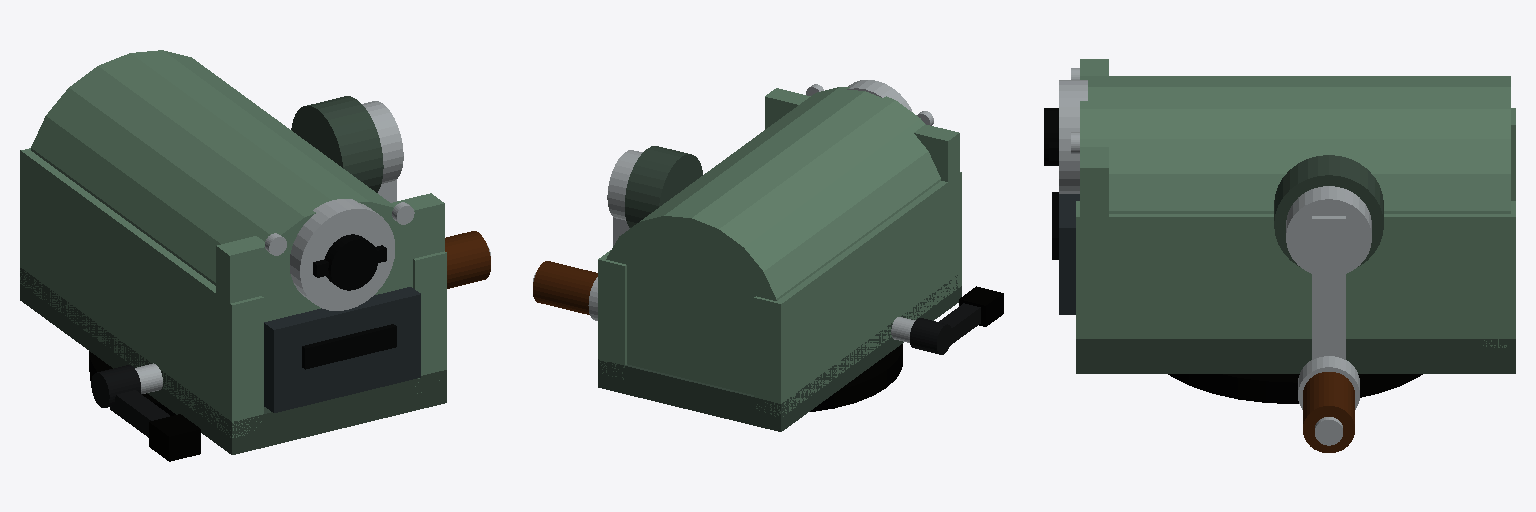
The robot description file, URDF, robot "classroom_crank_pencil_sharpener":
<robot name="classroom_crank_pencil_sharpener">
  <material name="cast_green">
    <color rgba="0.4 0.51 0.43 1" />
    </material>
  <material name="dark_cast_edges">
    <color rgba="0.25 0.31 0.27 1" />
    </material>
  <material name="smoked_drawer">
    <color rgba="0.18 0.21 0.22 0.86" />
    </material>
  <material name="drawer_shadow">
    <color rgba="0.05 0.055 0.055 1" />
    </material>
  <material name="dark_metal">
    <color rgba="0.1 0.105 0.11 1" />
    </material>
  <material name="worn_steel">
    <color rgba="0.64 0.66 0.67 1" />
    </material>
  <material name="black_rubber">
    <color rgba="0.025 0.025 0.023 1" />
    </material>
  <material name="brown_bakelite">
    <color rgba="0.31 0.17 0.075 1" />
    </material>
  <link name="body">
    <visual name="arched_cast_cap">
      <geometry>
        <mesh filename="assets/meshes/cast_housing_cap.obj" />
        </geometry>
      <material name="cast_green">
        <color rgba="0.4 0.51 0.43 1" />
        </material>
      </visual>
    <visual name="base_plate">
      <origin xyz="0 0 0.008" rpy="0 0 0" />
      <geometry>
        <box size="0.108 0.184 0.016" />
        </geometry>
      <material name="dark_cast_edges">
        <color rgba="0.25 0.31 0.27 1" />
        </material>
      </visual>
    <visual name="side_wall_0">
      <origin xyz="-0.046 0 0.04" rpy="0 0 0" />
      <geometry>
        <box size="0.016 0.184 0.064" />
        </geometry>
      <material name="cast_green">
        <color rgba="0.4 0.51 0.43 1" />
        </material>
      </visual>
    <visual name="side_wall_1">
      <origin xyz="0.046 0 0.04" rpy="0 0 0" />
      <geometry>
        <box size="0.016 0.184 0.064" />
        </geometry>
      <material name="cast_green">
        <color rgba="0.4 0.51 0.43 1" />
        </material>
      </visual>
    <visual name="rear_wall">
      <origin xyz="0 0.084 0.041" rpy="0 0 0" />
      <geometry>
        <box size="0.108 0.012 0.058" />
        </geometry>
      <material name="cast_green">
        <color rgba="0.4 0.51 0.43 1" />
        </material>
      </visual>
    <visual name="front_upper_casting">
      <origin xyz="0 -0.084 0.079" rpy="0 0 0" />
      <geometry>
        <box size="0.108 0.012 0.032" />
        </geometry>
      <material name="cast_green">
        <color rgba="0.4 0.51 0.43 1" />
        </material>
      </visual>
    <visual name="front_jamb_0">
      <origin xyz="-0.044 -0.084 0.039" rpy="0 0 0" />
      <geometry>
        <box size="0.012 0.012 0.046" />
        </geometry>
      <material name="cast_green">
        <color rgba="0.4 0.51 0.43 1" />
        </material>
      </visual>
    <visual name="front_jamb_1">
      <origin xyz="0.044 -0.084 0.039" rpy="0 0 0" />
      <geometry>
        <box size="0.012 0.012 0.046" />
        </geometry>
      <material name="cast_green">
        <color rgba="0.4 0.51 0.43 1" />
        </material>
      </visual>
    <visual name="pencil_bezel">
      <origin xyz="0 -0.093 0.084" rpy="1.5708 0 0" />
      <geometry>
        <cylinder radius="0.024" length="0.012" />
        </geometry>
      <material name="worn_steel">
        <color rgba="0.64 0.66 0.67 1" />
        </material>
      </visual>
    <visual name="pencil_throat">
      <origin xyz="0 -0.098 0.084" rpy="1.5708 0 0" />
      <geometry>
        <cylinder radius="0.012" length="0.014" />
        </geometry>
      <material name="drawer_shadow">
        <color rgba="0.05 0.055 0.055 1" />
        </material>
      </visual>
    <visual name="pencil_grip_slit">
      <origin xyz="0 -0.101 0.084" rpy="0 0 0" />
      <geometry>
        <box size="0.035 0.004 0.006" />
        </geometry>
      <material name="drawer_shadow">
        <color rgba="0.05 0.055 0.055 1" />
        </material>
      </visual>
    <visual name="front_screw_0">
      <origin xyz="-0.032 -0.092 0.096" rpy="1.5708 0 0" />
      <geometry>
        <cylinder radius="0.0045" length="0.004" />
        </geometry>
      <material name="worn_steel">
        <color rgba="0.64 0.66 0.67 1" />
        </material>
      </visual>
    <visual name="front_screw_1">
      <origin xyz="0.032 -0.092 0.096" rpy="1.5708 0 0" />
      <geometry>
        <cylinder radius="0.0045" length="0.004" />
        </geometry>
      <material name="worn_steel">
        <color rgba="0.64 0.66 0.67 1" />
        </material>
      </visual>
    <visual name="crank_bearing">
      <origin xyz="0.06 0.014 0.076" rpy="0 1.5708 0" />
      <geometry>
        <cylinder radius="0.023" length="0.02" />
        </geometry>
      <material name="dark_cast_edges">
        <color rgba="0.25 0.31 0.27 1" />
        </material>
      </visual>
    <visual name="suction_cup">
      <origin xyz="0 0 -0.005" rpy="0 0 0" />
      <geometry>
        <cylinder radius="0.063" length="0.01" />
        </geometry>
      <material name="black_rubber">
        <color rgba="0.025 0.025 0.023 1" />
        </material>
      </visual>
    <visual name="suction_stem">
      <origin xyz="0 -0.02 0.004" rpy="0 0 0" />
      <geometry>
        <cylinder radius="0.02" length="0.014" />
        </geometry>
      <material name="black_rubber">
        <color rgba="0.025 0.025 0.023 1" />
        </material>
      </visual>
    <visual name="lock_pivot_pin">
      <origin xyz="-0.06 -0.026 0.011" rpy="0 1.5708 0" />
      <geometry>
        <cylinder radius="0.006" length="0.012" />
        </geometry>
      <material name="worn_steel">
        <color rgba="0.64 0.66 0.67 1" />
        </material>
      </visual>
    <collision name="arched_cast_cap">
      <geometry>
        <mesh filename="assets/meshes/cast_housing_cap.obj" />
        </geometry>
      </collision>
    <collision name="base_plate">
      <origin xyz="0 0 0.008" rpy="0 0 0" />
      <geometry>
        <box size="0.108 0.184 0.016" />
        </geometry>
      </collision>
    <collision name="side_wall_0">
      <origin xyz="-0.046 0 0.04" rpy="0 0 0" />
      <geometry>
        <box size="0.016 0.184 0.064" />
        </geometry>
      </collision>
    <collision name="side_wall_1">
      <origin xyz="0.046 0 0.04" rpy="0 0 0" />
      <geometry>
        <box size="0.016 0.184 0.064" />
        </geometry>
      </collision>
    <collision name="rear_wall">
      <origin xyz="0 0.084 0.041" rpy="0 0 0" />
      <geometry>
        <box size="0.108 0.012 0.058" />
        </geometry>
      </collision>
    <collision name="front_upper_casting">
      <origin xyz="0 -0.084 0.079" rpy="0 0 0" />
      <geometry>
        <box size="0.108 0.012 0.032" />
        </geometry>
      </collision>
    <collision name="front_jamb_0">
      <origin xyz="-0.044 -0.084 0.039" rpy="0 0 0" />
      <geometry>
        <box size="0.012 0.012 0.046" />
        </geometry>
      </collision>
    <collision name="front_jamb_1">
      <origin xyz="0.044 -0.084 0.039" rpy="0 0 0" />
      <geometry>
        <box size="0.012 0.012 0.046" />
        </geometry>
      </collision>
    <collision name="pencil_bezel">
      <origin xyz="0 -0.093 0.084" rpy="1.5708 0 0" />
      <geometry>
        <cylinder radius="0.024" length="0.012" />
        </geometry>
      </collision>
    <collision name="pencil_throat">
      <origin xyz="0 -0.098 0.084" rpy="1.5708 0 0" />
      <geometry>
        <cylinder radius="0.012" length="0.014" />
        </geometry>
      </collision>
    <collision name="pencil_grip_slit">
      <origin xyz="0 -0.101 0.084" rpy="0 0 0" />
      <geometry>
        <box size="0.035 0.004 0.006" />
        </geometry>
      </collision>
    <collision name="front_screw_0">
      <origin xyz="-0.032 -0.092 0.096" rpy="1.5708 0 0" />
      <geometry>
        <cylinder radius="0.0045" length="0.004" />
        </geometry>
      </collision>
    <collision name="front_screw_1">
      <origin xyz="0.032 -0.092 0.096" rpy="1.5708 0 0" />
      <geometry>
        <cylinder radius="0.0045" length="0.004" />
        </geometry>
      </collision>
    <collision name="crank_bearing">
      <origin xyz="0.06 0.014 0.076" rpy="0 1.5708 0" />
      <geometry>
        <cylinder radius="0.023" length="0.02" />
        </geometry>
      </collision>
    <collision name="suction_cup">
      <origin xyz="0 0 -0.005" rpy="0 0 0" />
      <geometry>
        <cylinder radius="0.063" length="0.01" />
        </geometry>
      </collision>
    <collision name="suction_stem">
      <origin xyz="0 -0.02 0.004" rpy="0 0 0" />
      <geometry>
        <cylinder radius="0.02" length="0.014" />
        </geometry>
      </collision>
    <collision name="lock_pivot_pin">
      <origin xyz="-0.06 -0.026 0.011" rpy="0 1.5708 0" />
      <geometry>
        <cylinder radius="0.006" length="0.012" />
        </geometry>
      </collision>
    </link>
  <link name="drawer">
    <visual name="drawer_front">
      <origin xyz="0 -0.005 0" rpy="0 0 0" />
      <geometry>
        <box size="0.074 0.01 0.04" />
        </geometry>
      <material name="smoked_drawer">
        <color rgba="0.18 0.21 0.22 0.86" />
        </material>
      </visual>
    <visual name="tray_bottom">
      <origin xyz="0 0.075 -0.018" rpy="0 0 0" />
      <geometry>
        <box size="0.066 0.15 0.004" />
        </geometry>
      <material name="smoked_drawer">
        <color rgba="0.18 0.21 0.22 0.86" />
        </material>
      </visual>
    <visual name="tray_side_0">
      <origin xyz="-0.035 0.078 -0.006" rpy="0 0 0" />
      <geometry>
        <box size="0.004 0.145 0.026" />
        </geometry>
      <material name="smoked_drawer">
        <color rgba="0.18 0.21 0.22 0.86" />
        </material>
      </visual>
    <visual name="tray_side_1">
      <origin xyz="0.035 0.078 -0.006" rpy="0 0 0" />
      <geometry>
        <box size="0.004 0.145 0.026" />
        </geometry>
      <material name="smoked_drawer">
        <color rgba="0.18 0.21 0.22 0.86" />
        </material>
      </visual>
    <visual name="tray_back">
      <origin xyz="0 0.151 -0.006" rpy="0 0 0" />
      <geometry>
        <box size="0.066 0.004 0.026" />
        </geometry>
      <material name="smoked_drawer">
        <color rgba="0.18 0.21 0.22 0.86" />
        </material>
      </visual>
    <visual name="finger_pull">
      <origin xyz="0 -0.011 0.004" rpy="0 0 0" />
      <geometry>
        <box size="0.046 0.004 0.01" />
        </geometry>
      <material name="drawer_shadow">
        <color rgba="0.05 0.055 0.055 1" />
        </material>
      </visual>
    <collision name="drawer_front">
      <origin xyz="0 -0.005 0" rpy="0 0 0" />
      <geometry>
        <box size="0.074 0.01 0.04" />
        </geometry>
      </collision>
    <collision name="tray_bottom">
      <origin xyz="0 0.075 -0.018" rpy="0 0 0" />
      <geometry>
        <box size="0.066 0.15 0.004" />
        </geometry>
      </collision>
    <collision name="tray_side_0">
      <origin xyz="-0.035 0.078 -0.006" rpy="0 0 0" />
      <geometry>
        <box size="0.004 0.145 0.026" />
        </geometry>
      </collision>
    <collision name="tray_side_1">
      <origin xyz="0.035 0.078 -0.006" rpy="0 0 0" />
      <geometry>
        <box size="0.004 0.145 0.026" />
        </geometry>
      </collision>
    <collision name="tray_back">
      <origin xyz="0 0.151 -0.006" rpy="0 0 0" />
      <geometry>
        <box size="0.066 0.004 0.026" />
        </geometry>
      </collision>
    <collision name="finger_pull">
      <origin xyz="0 -0.011 0.004" rpy="0 0 0" />
      <geometry>
        <box size="0.046 0.004 0.01" />
        </geometry>
      </collision>
    </link>
  <link name="crank">
    <visual name="crank_hub">
      <origin xyz="0.0065 0 0" rpy="0 1.5708 0" />
      <geometry>
        <cylinder radius="0.018" length="0.013" />
        </geometry>
      <material name="worn_steel">
        <color rgba="0.64 0.66 0.67 1" />
        </material>
      </visual>
    <visual name="crank_arm">
      <origin xyz="0.01 0 -0.026" rpy="0 0 0" />
      <geometry>
        <box size="0.012 0.014 0.072" />
        </geometry>
      <material name="worn_steel">
        <color rgba="0.64 0.66 0.67 1" />
        </material>
      </visual>
    <visual name="end_lug">
      <origin xyz="0.021 0 -0.066" rpy="0 1.5708 0" />
      <geometry>
        <cylinder radius="0.013" length="0.012" />
        </geometry>
      <material name="worn_steel">
        <color rgba="0.64 0.66 0.67 1" />
        </material>
      </visual>
    <visual name="knob_pin">
      <origin xyz="0.038 0 -0.066" rpy="0 1.5708 0" />
      <geometry>
        <cylinder radius="0.004" length="0.04" />
        </geometry>
      <material name="worn_steel">
        <color rgba="0.64 0.66 0.67 1" />
        </material>
      </visual>
    <collision name="crank_hub">
      <origin xyz="0.0065 0 0" rpy="0 1.5708 0" />
      <geometry>
        <cylinder radius="0.018" length="0.013" />
        </geometry>
      </collision>
    <collision name="crank_arm">
      <origin xyz="0.01 0 -0.026" rpy="0 0 0" />
      <geometry>
        <box size="0.012 0.014 0.072" />
        </geometry>
      </collision>
    <collision name="end_lug">
      <origin xyz="0.021 0 -0.066" rpy="0 1.5708 0" />
      <geometry>
        <cylinder radius="0.013" length="0.012" />
        </geometry>
      </collision>
    <collision name="knob_pin">
      <origin xyz="0.038 0 -0.066" rpy="0 1.5708 0" />
      <geometry>
        <cylinder radius="0.004" length="0.04" />
        </geometry>
      </collision>
    </link>
  <link name="spinner_knob">
    <visual name="knob_grip">
      <origin xyz="0.017 0 0" rpy="0 1.5708 0" />
      <geometry>
        <cylinder radius="0.011" length="0.034" />
        </geometry>
      <material name="brown_bakelite">
        <color rgba="0.31 0.17 0.075 1" />
        </material>
      </visual>
    <visual name="knob_end_cap">
      <origin xyz="0.0355 0 0" rpy="0 1.5708 0" />
      <geometry>
        <cylinder radius="0.006" length="0.003" />
        </geometry>
      <material name="worn_steel">
        <color rgba="0.64 0.66 0.67 1" />
        </material>
      </visual>
    <collision name="knob_grip">
      <origin xyz="0.017 0 0" rpy="0 1.5708 0" />
      <geometry>
        <cylinder radius="0.011" length="0.034" />
        </geometry>
      </collision>
    <collision name="knob_end_cap">
      <origin xyz="0.0355 0 0" rpy="0 1.5708 0" />
      <geometry>
        <cylinder radius="0.006" length="0.003" />
        </geometry>
      </collision>
    </link>
  <link name="lock_lever">
    <visual name="lever_hub">
      <origin xyz="-0.008 0 0" rpy="0 1.5708 0" />
      <geometry>
        <cylinder radius="0.008" length="0.016" />
        </geometry>
      <material name="dark_metal">
        <color rgba="0.1 0.105 0.11 1" />
        </material>
      </visual>
    <visual name="lever_blade">
      <origin xyz="-0.008 -0.026 -0.004" rpy="0 0 0" />
      <geometry>
        <box size="0.01 0.046 0.009" />
        </geometry>
      <material name="dark_metal">
        <color rgba="0.1 0.105 0.11 1" />
        </material>
      </visual>
    <visual name="lever_thumb_pad">
      <origin xyz="-0.008 -0.051 -0.004" rpy="0 0 0" />
      <geometry>
        <box size="0.016 0.018 0.012" />
        </geometry>
      <material name="black_rubber">
        <color rgba="0.025 0.025 0.023 1" />
        </material>
      </visual>
    <collision name="lever_hub">
      <origin xyz="-0.008 0 0" rpy="0 1.5708 0" />
      <geometry>
        <cylinder radius="0.008" length="0.016" />
        </geometry>
      </collision>
    <collision name="lever_blade">
      <origin xyz="-0.008 -0.026 -0.004" rpy="0 0 0" />
      <geometry>
        <box size="0.01 0.046 0.009" />
        </geometry>
      </collision>
    <collision name="lever_thumb_pad">
      <origin xyz="-0.008 -0.051 -0.004" rpy="0 0 0" />
      <geometry>
        <box size="0.016 0.018 0.012" />
        </geometry>
      </collision>
    </link>
  <joint name="body_to_drawer" type="prismatic">
    <origin xyz="0 -0.089 0.039" rpy="0 0 0" />
    <parent link="body" />
    <child link="drawer" />
    <axis xyz="0 -1 0" />
    <limit effort="18" velocity="0.18" lower="0" upper="0.075" />
    </joint>
  <joint name="body_to_crank" type="continuous">
    <origin xyz="0.07 0.014 0.076" rpy="0 0 0" />
    <parent link="body" />
    <child link="crank" />
    <axis xyz="1 0 0" />
    <limit effort="1.5" velocity="9" />
    </joint>
  <joint name="crank_to_spinner_knob" type="continuous">
    <origin xyz="0.027 0 -0.066" rpy="0 0 0" />
    <parent link="crank" />
    <child link="spinner_knob" />
    <axis xyz="1 0 0" />
    <limit effort="0.08" velocity="18" />
    </joint>
  <joint name="body_to_lock_lever" type="revolute">
    <origin xyz="-0.066 -0.026 0.011" rpy="0 0 0" />
    <parent link="body" />
    <child link="lock_lever" />
    <axis xyz="1 0 0" />
    <limit effort="0.5" velocity="3" lower="-0.55" upper="0.85" />
    </joint>
  </robot>

--- Render facts (derived) ---
Views: 3 orthographic renders of the robot side by side, from view 1: azimuth 30°, elevation 25°; view 2: azimuth 150°, elevation 25°; view 3: azimuth 270°, elevation 25°.
Model classroom_crank_pencil_sharpener with 5 links and 4 joints (1 revolute, 2 continuous, 1 prismatic), rooted at body, posed every joint at zero.
Visible links, largest first — view 1: body, drawer, lock_lever, spinner_knob, crank; view 2: body, lock_lever, spinner_knob, crank; view 3: body, crank, spinner_knob, drawer.
Link boxes in pixels (x1,y1,x2,y2): body: (20, 50, 446, 454); drawer: (264, 287, 420, 412); lock_lever: (91, 365, 200, 461); spinner_knob: (445, 231, 490, 288); crank: (362, 101, 403, 202); body: (598, 80, 961, 431); lock_lever: (910, 286, 1003, 354); spinner_knob: (533, 261, 597, 314); crank: (588, 150, 642, 320); body: (1044, 59, 1515, 403); crank: (1286, 186, 1371, 409); spinner_knob: (1303, 372, 1354, 452); drawer: (1052, 192, 1079, 314).
Size in the robot's own frame: 0.216 by 0.197 by 0.118 metres.
1 mesh visuals loaded from 1 distinct referenced files (1 OBJ).
